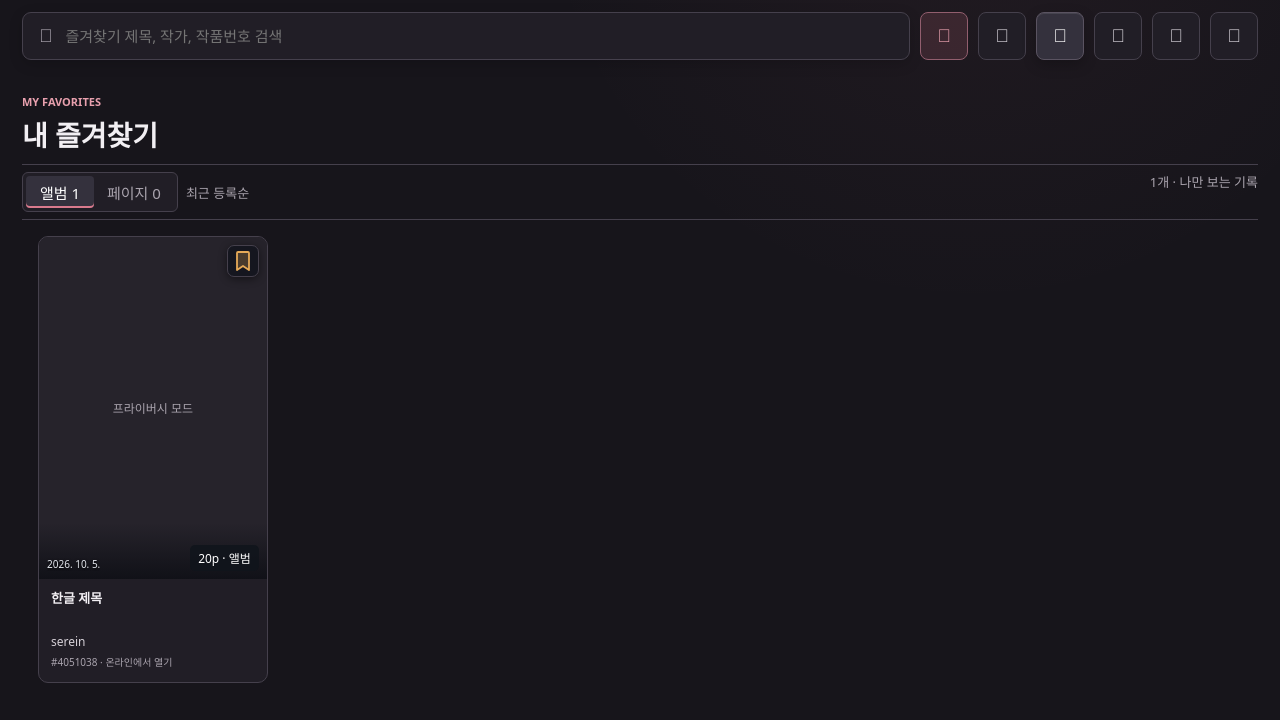
Test: private favorites and collections › overlays a single bookmark control and date on the cover, with the Korean title first
Expected: the text "한글 제목" is shown, [51, 589, 102, 607]
Expected: the text "2026. 10. 5." is shown, [47, 557, 100, 571]
Click the button named "앨범 즐겨찾기 해제": coordinates (243, 261) [227, 245, 259, 277]
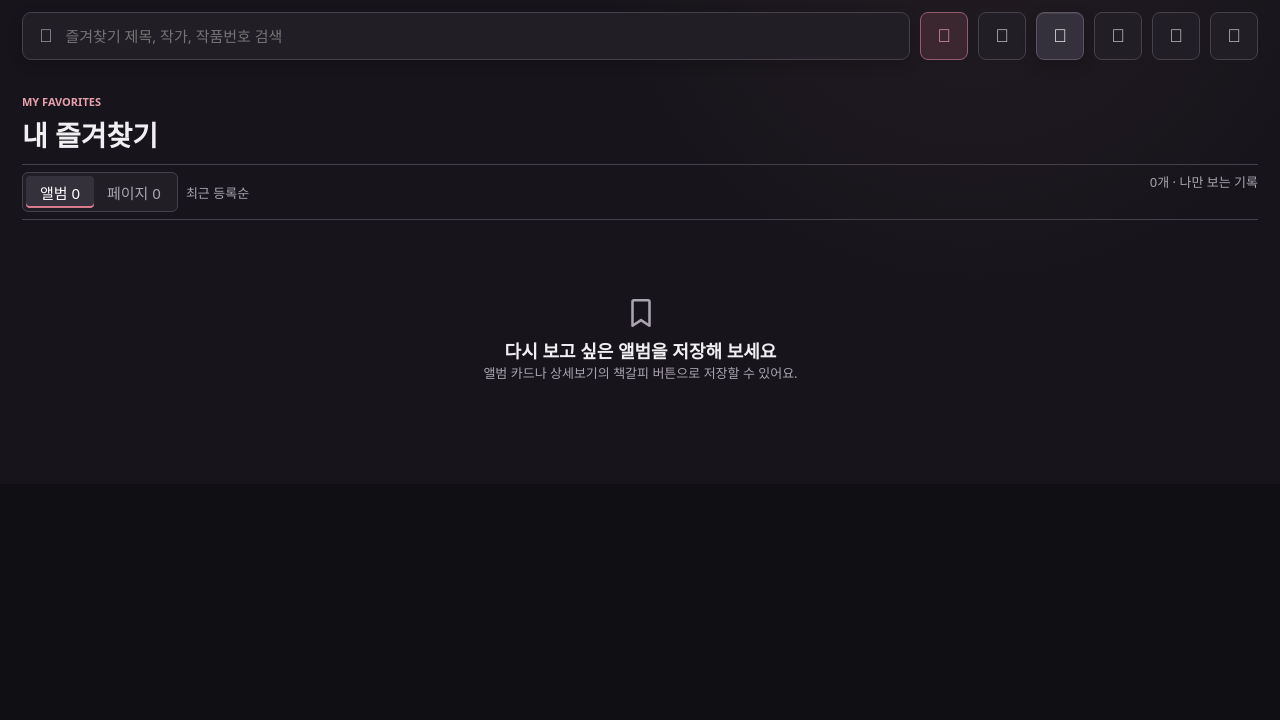
Now the list item with class "saved-card" is gone
